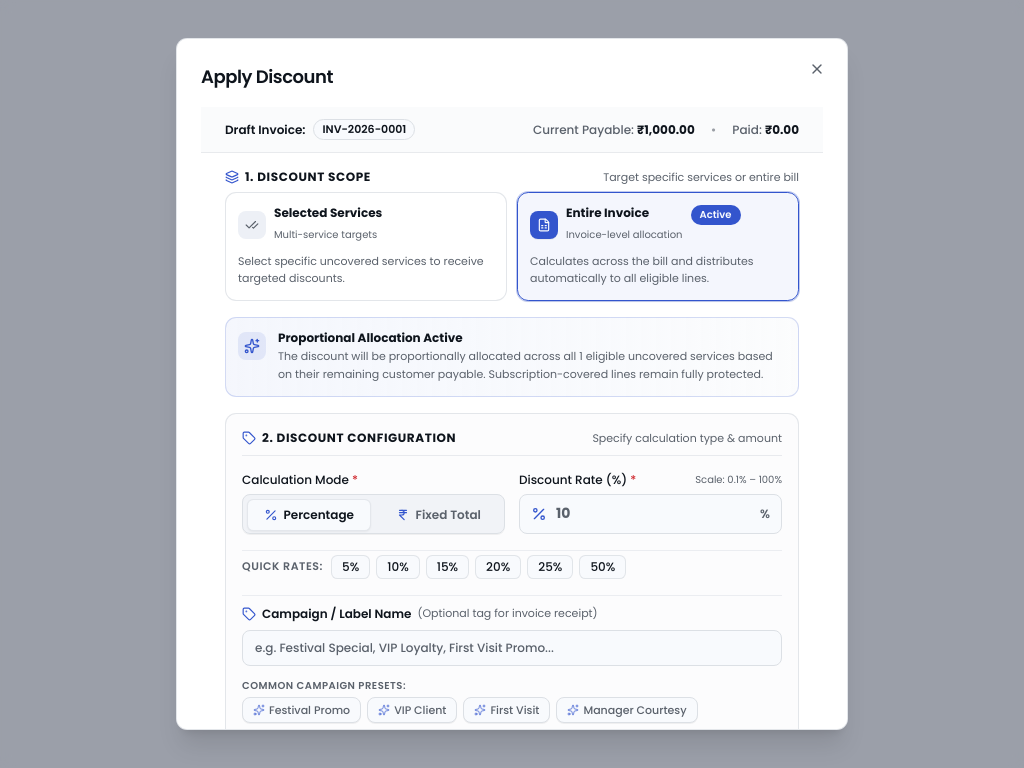
Test case: Billing Discounts — UI Components & Flow Verification › InvoiceDetailsPage Integration & State Enforcements › handles multi-line selection, live percentage and fixed preview calculations correctly in ApplyDiscountDialog
This screenshot has width=1024, height=768.
Note: Select 'Selected Services' scope
Click the button "Selected Services".
click(328, 212)  # box [225, 192, 507, 301]
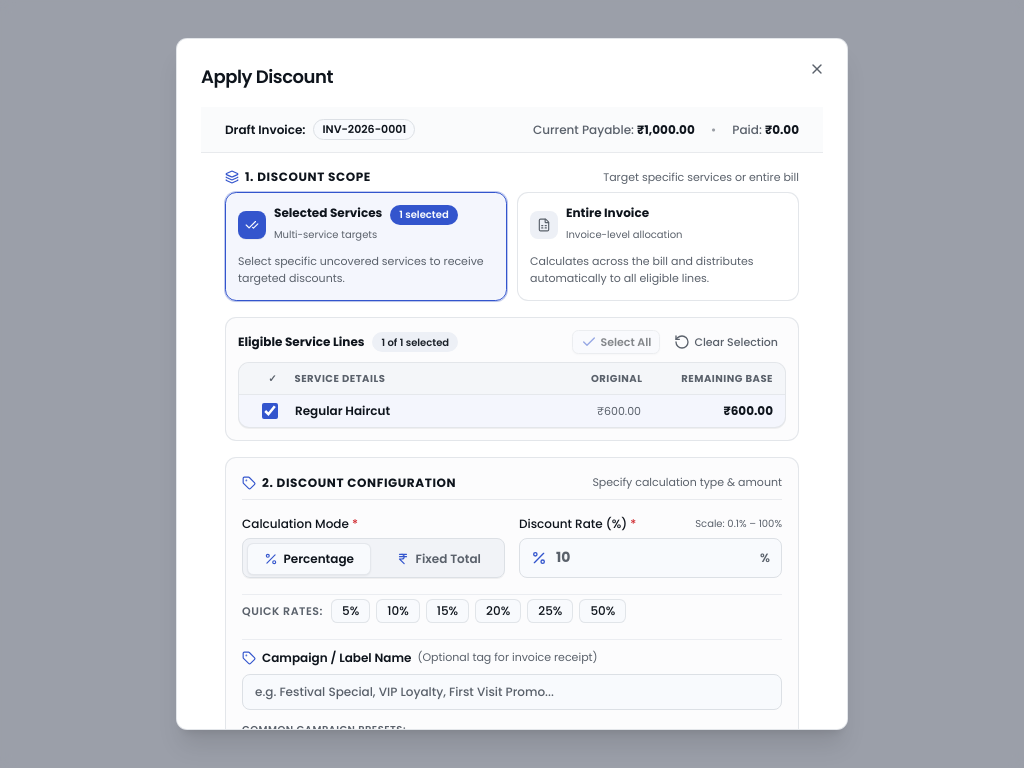
Note: Check for Select All and Clear Selection
Click the button "Clear Selection".
click(726, 342)  # box [666, 330, 786, 354]
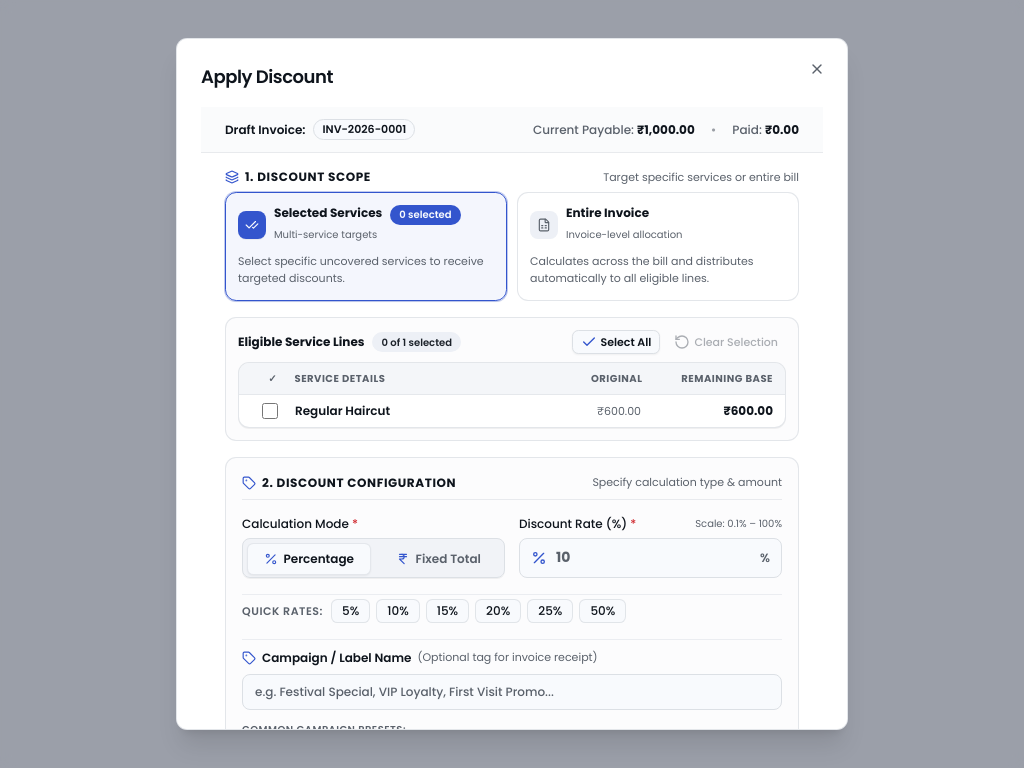
Now the text "0 selected" is shown, box [390, 205, 460, 225]
Click the button "Select All".
click(616, 342)  # box [572, 330, 660, 354]
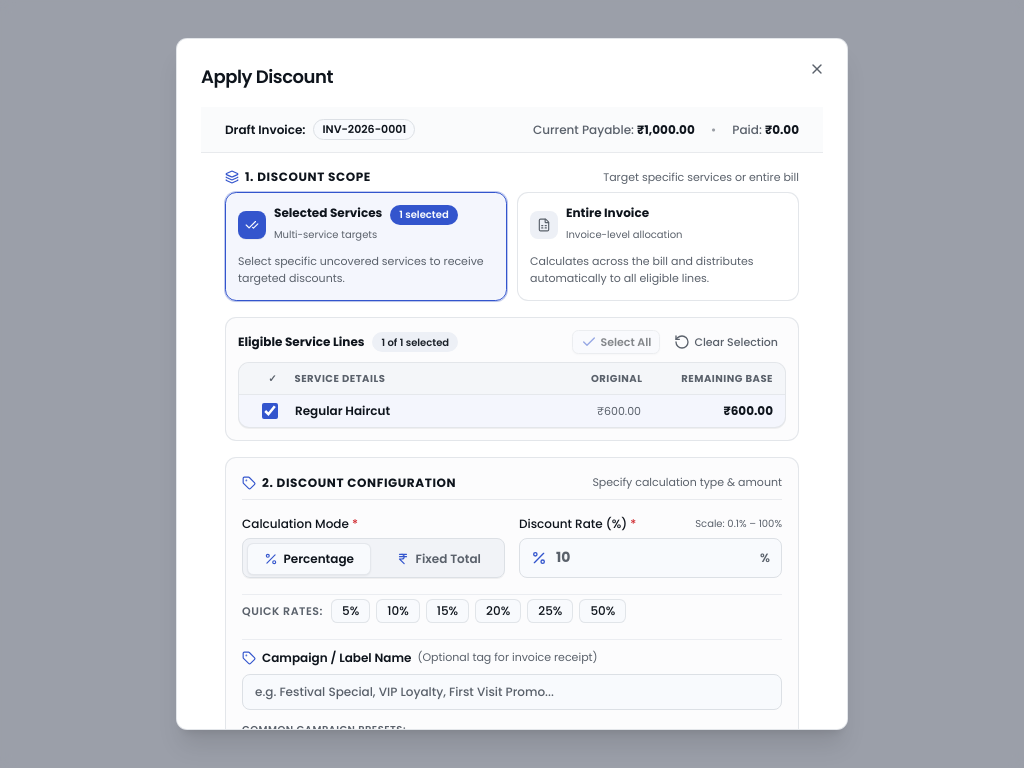
Type "20" into the number field with placeholder "10".
click(650, 558); type("20")  # box [519, 538, 782, 578]
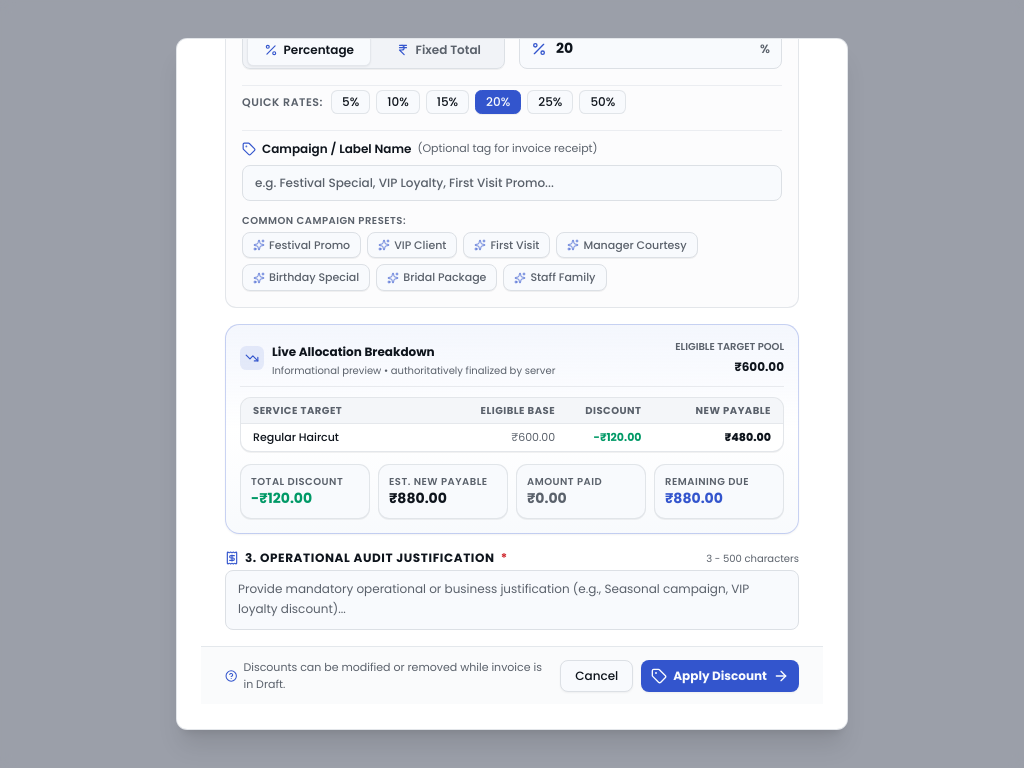
Now the text "Live Allocation Breakdown" is shown, box [272, 343, 435, 360]
Now the text "₹480.00" is shown, box [725, 429, 771, 445]
